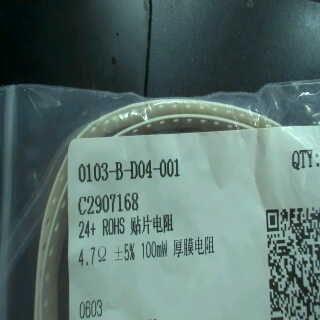4.7R: (77, 244, 113, 269)
